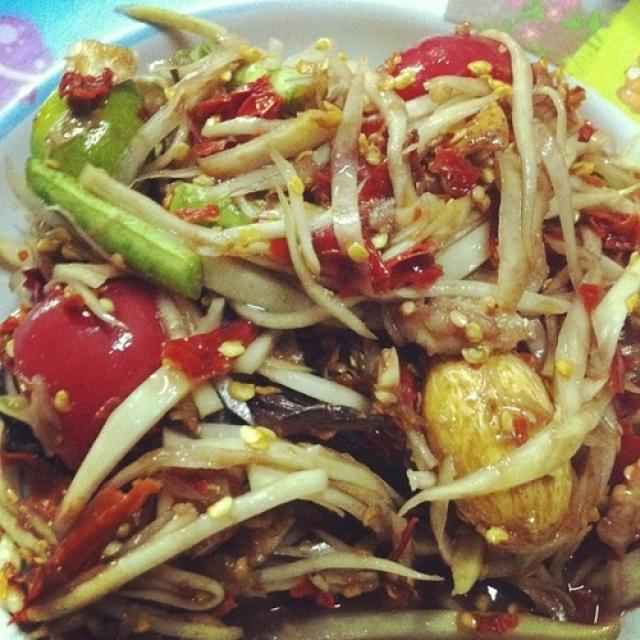蔬菜料理: (11, 28, 626, 611)
